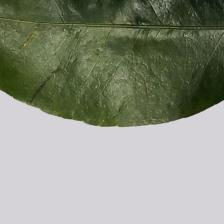healthy: (2, 2, 224, 128)
